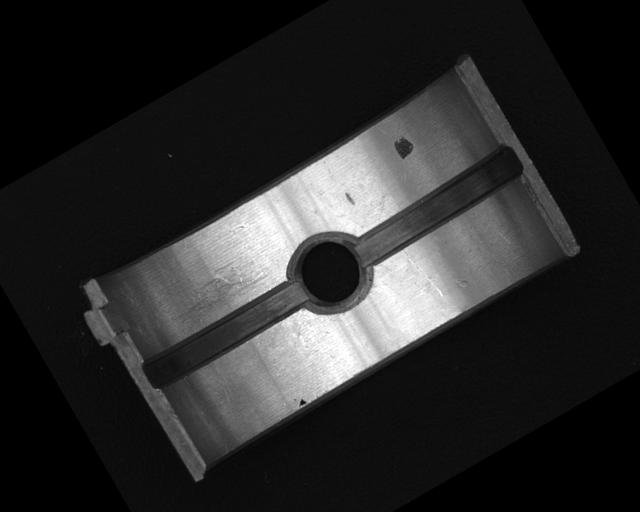blot: (390, 132, 417, 161), (292, 393, 307, 409)
bruise: (343, 189, 357, 206)
gap: (342, 140, 527, 270), (141, 278, 311, 393)
hole: (277, 222, 380, 327)
nick: (403, 244, 445, 302)
scratch: (158, 251, 275, 336)
